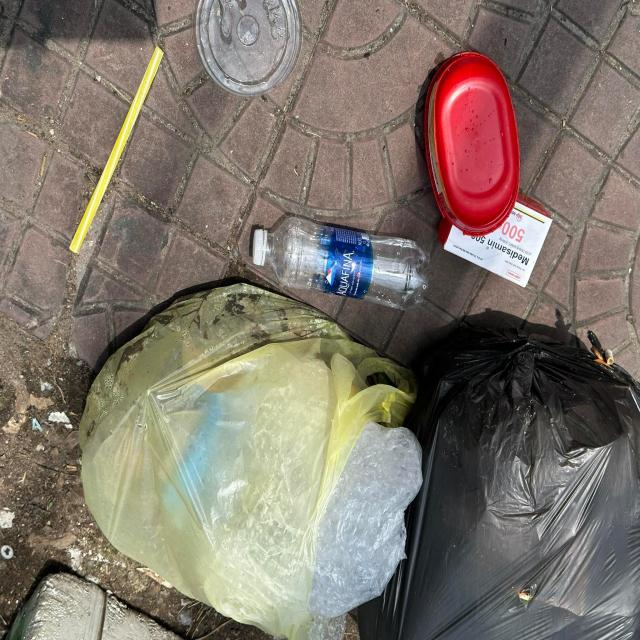bottle: (252, 216, 428, 311)
cardboard box: (438, 187, 550, 290), (223, 69, 224, 71)
drinking straw: (67, 46, 165, 256)
lid: (194, 0, 303, 96)
plastic holder: (425, 51, 518, 236)
trash bag: (78, 282, 423, 640), (356, 308, 640, 640)
